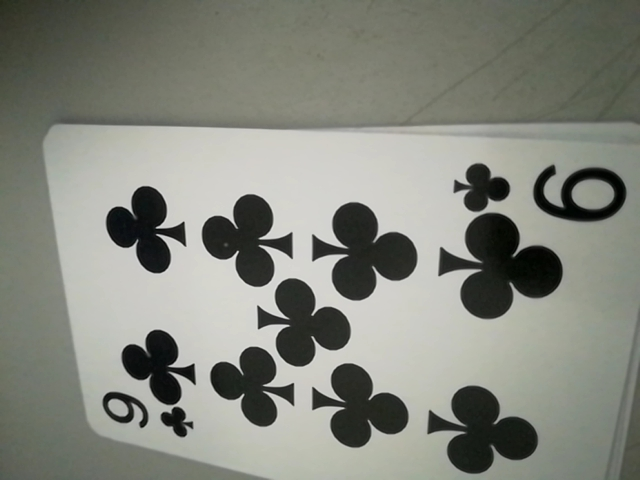mh 9: (451, 156, 625, 220), (96, 391, 199, 444)
